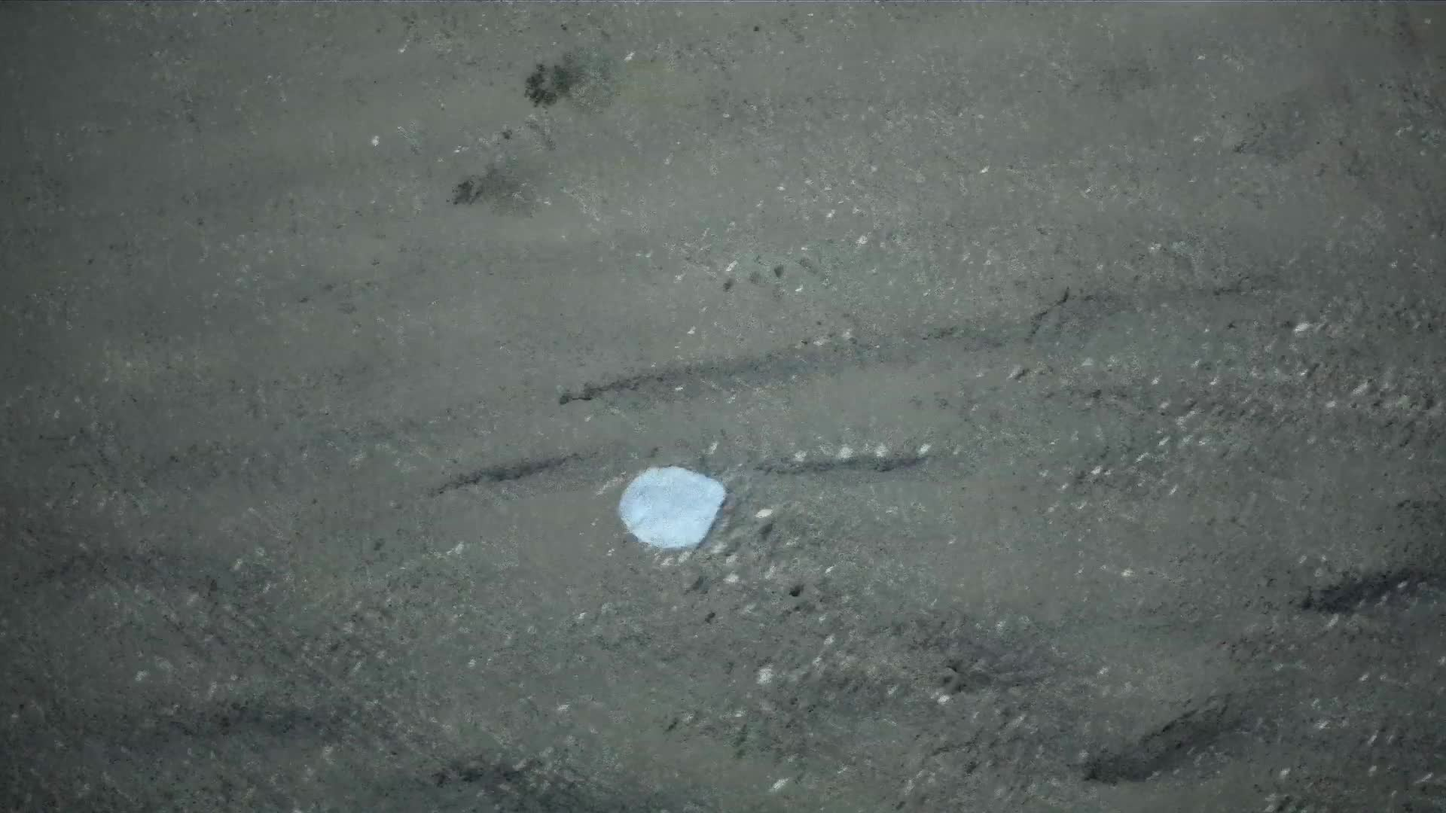Target: (616, 460, 731, 558)
